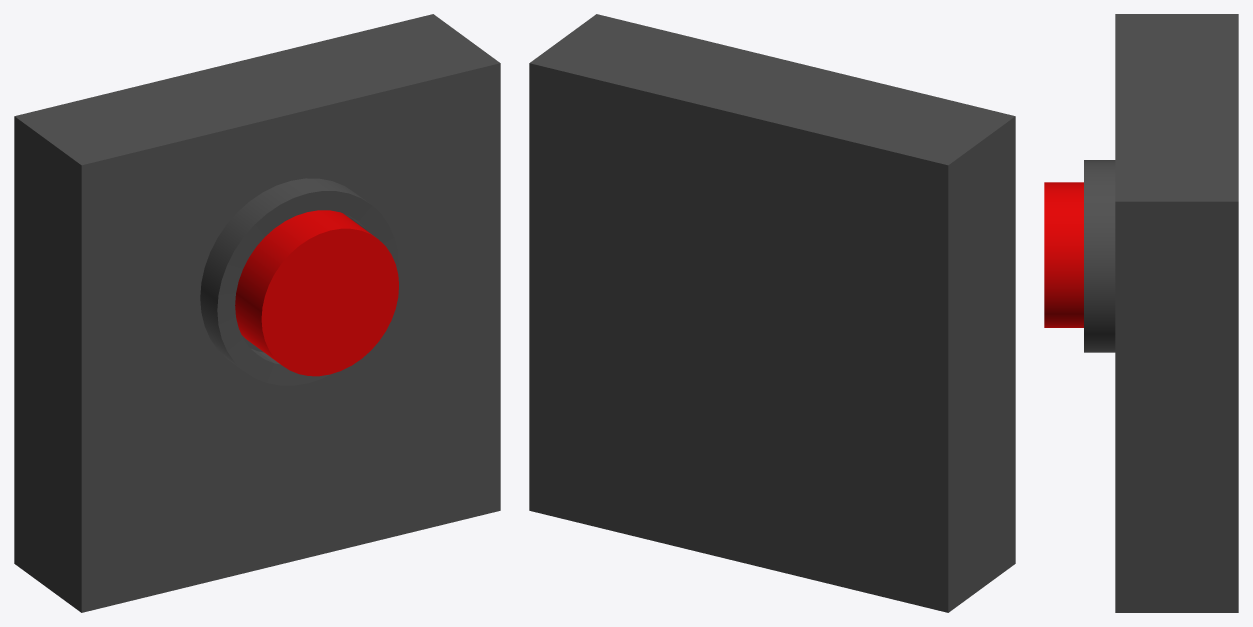
Rendered from Button.fbx.
3 views of the same model, side by side, from view 1: azimuth 30°, elevation 25°; view 2: azimuth 150°, elevation 25°; view 3: azimuth 270°, elevation 25° (orthographic). The views are drawn at different scales.
Parts seen in each view (by area): view 1: pCylinder4, pCylinder3; view 2: pCylinder4; view 3: pCylinder4, pCylinder3.
Part boxes in pixels (x1=…): pCylinder4: x1=14, y1=14, x2=500, y2=612; pCylinder3: x1=235, y1=210, x2=398, y2=376; pCylinder4: x1=529, y1=14, x2=1015, y2=612; pCylinder4: x1=1084, y1=14, x2=1238, y2=612; pCylinder3: x1=1044, y1=182, x2=1083, y2=327.
Size of the model in its own units: 1 by 1.02 by 0.4376.
